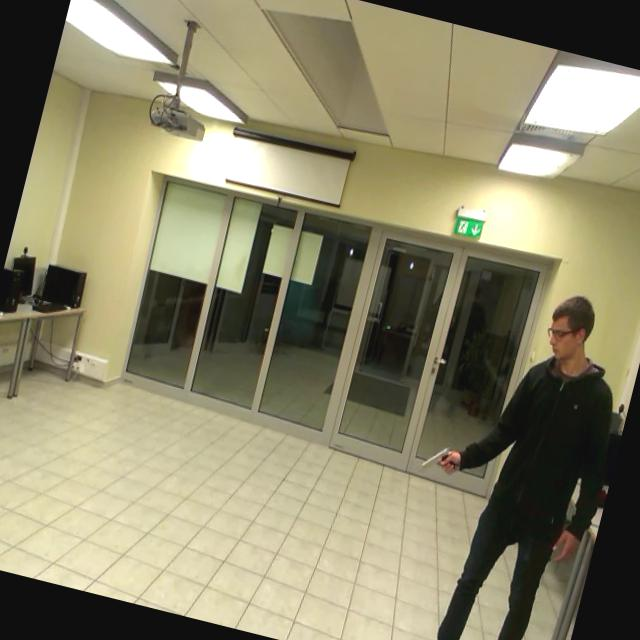handgun: (414, 434, 463, 484)
